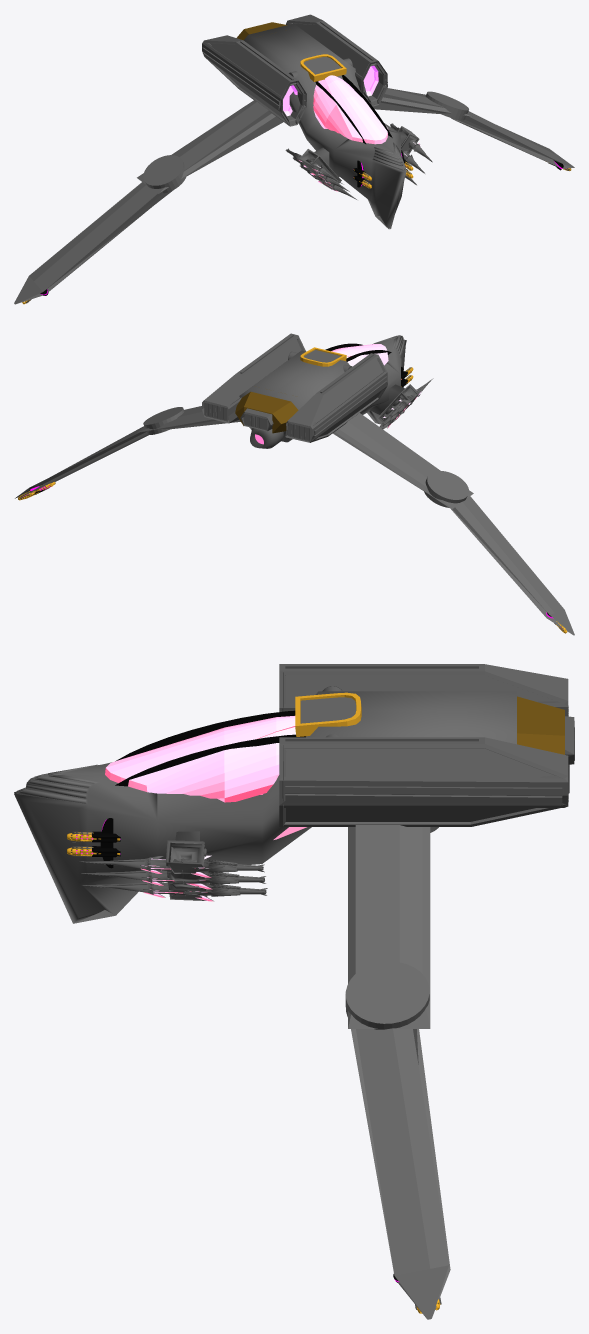
File: amelcia1.fbx
3 renders of one model, top to bottom at view 1: azimuth 30°, elevation 25°; view 2: azimuth 150°, elevation 25°; view 3: azimuth 270°, elevation 25°, orthographic. The views are drawn at different scales.
Parts seen in each view (by area): view 1: Cube.001; view 2: Cube.001; view 3: Cube.001.
Boxes of the visible parts, x1=… form: Cube.001: x1=14, y1=14, x2=574, y2=304; Cube.001: x1=15, y1=333, x2=574, y2=635; Cube.001: x1=14, y1=664, x2=574, y2=1319.
Bounding box in the file's own units: 3649 × 1214 × 1698.
